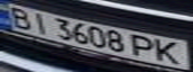0: (87, 24, 106, 49)
3: (48, 16, 75, 42)
6: (69, 20, 90, 45)
8: (106, 27, 127, 54)
B: (3, 5, 36, 30)
I: (24, 9, 54, 35)
K: (151, 37, 187, 65)
P: (127, 34, 160, 58)
